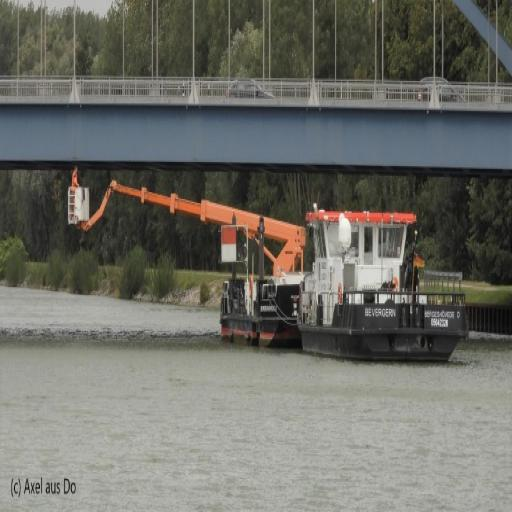tugboat: (294, 202, 472, 372)
